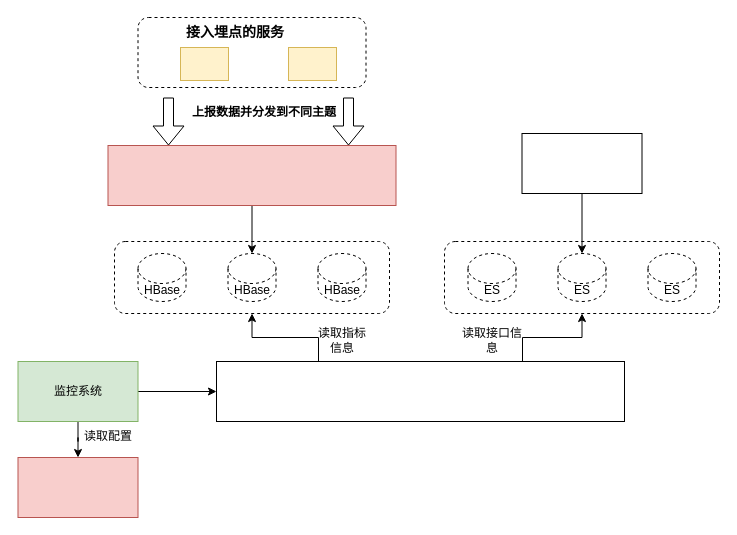
Image size: 737x535. Some labels were removed from this diagram. Here are the shapes that lost their labels. From the top down, the box of each, then its label:
(107, 144, 396, 206): Kafka
(521, 132, 642, 194): 日志中心
(216, 360, 624, 422): 生成监控任务
(17, 456, 138, 518): Mysql
